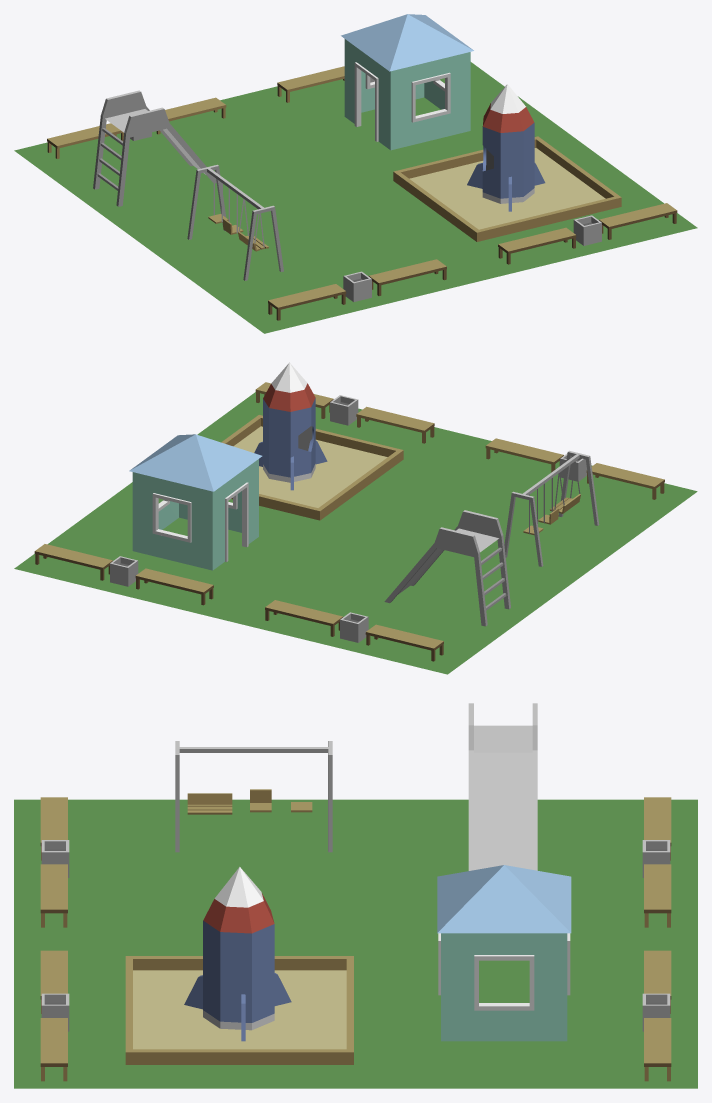
Rendered from landscape_entertainment_006.fbx.
3 renders of one model, top to bottom at view 1: azimuth 30°, elevation 25°; view 2: azimuth 150°, elevation 25°; view 3: azimuth 270°, elevation 25°, orthographic. The views are drawn at different scales.
Visible parts, largest first — view 1: landscape_entertainment_006; view 2: landscape_entertainment_006; view 3: landscape_entertainment_006.
Part boxes in pixels (<box>): landscape_entertainment_006: <box>14,14,697,333</box>; landscape_entertainment_006: <box>14,362,697,674</box>; landscape_entertainment_006: <box>14,703,697,1088</box>.
Size of the model in its own units: 1600 by 401 by 1600.
